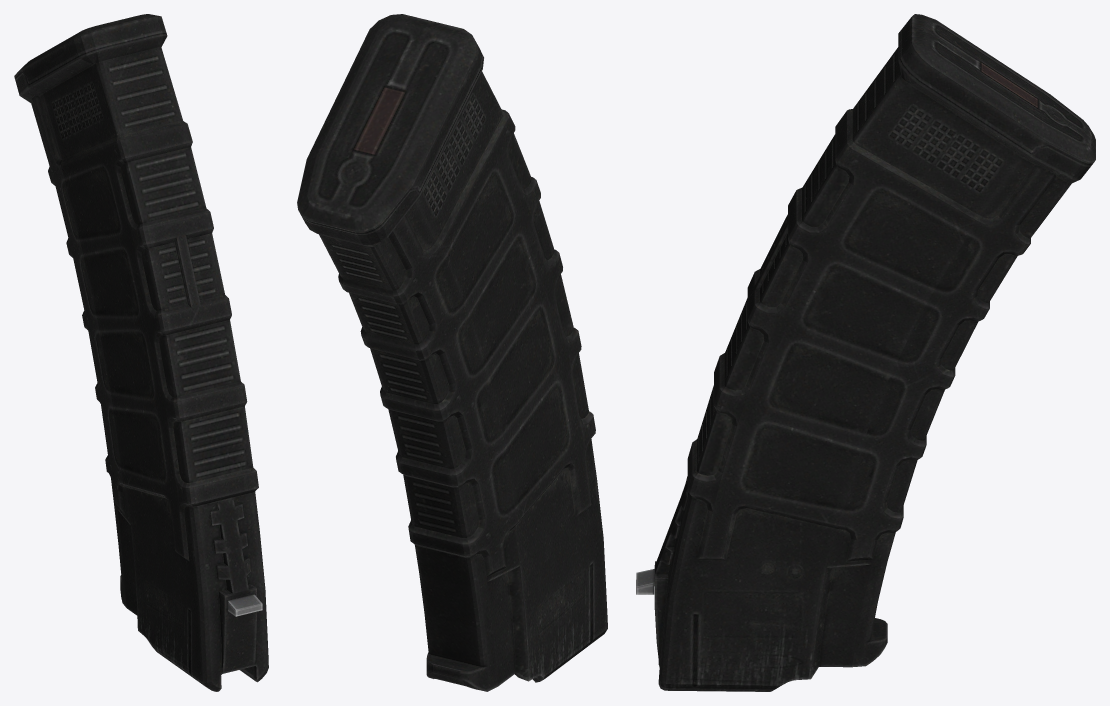
3 views of the same model, side by side, from view 1: azimuth 30°, elevation 25°; view 2: azimuth 150°, elevation 25°; view 3: azimuth 270°, elevation 25° (orthographic). The views are drawn at different scales.
Visible parts, largest first — view 1: TW_5aaa4194e5b5b055d06310a5_PZ_Import; view 2: TW_5aaa4194e5b5b055d06310a5_PZ_Import; view 3: TW_5aaa4194e5b5b055d06310a5_PZ_Import.
Boxes of the visible parts, x1,y1,x2,y2 form: TW_5aaa4194e5b5b055d06310a5_PZ_Import: (14, 14, 268, 691); TW_5aaa4194e5b5b055d06310a5_PZ_Import: (297, 14, 607, 691); TW_5aaa4194e5b5b055d06310a5_PZ_Import: (636, 14, 1095, 691).
Size of the model in its own units: 0.0188 by 0.0766 by 0.1197.
Materials: 1 (1 with a texture image).
